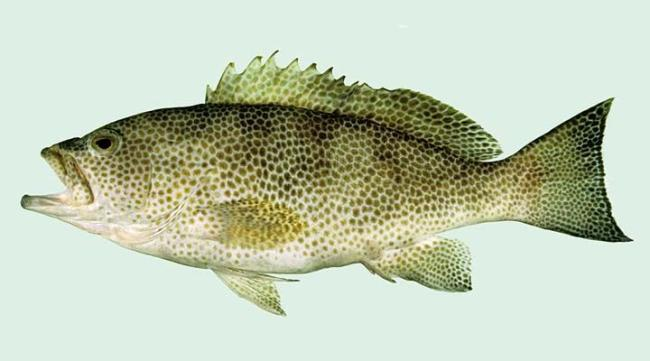fish: (21, 49, 635, 317)
